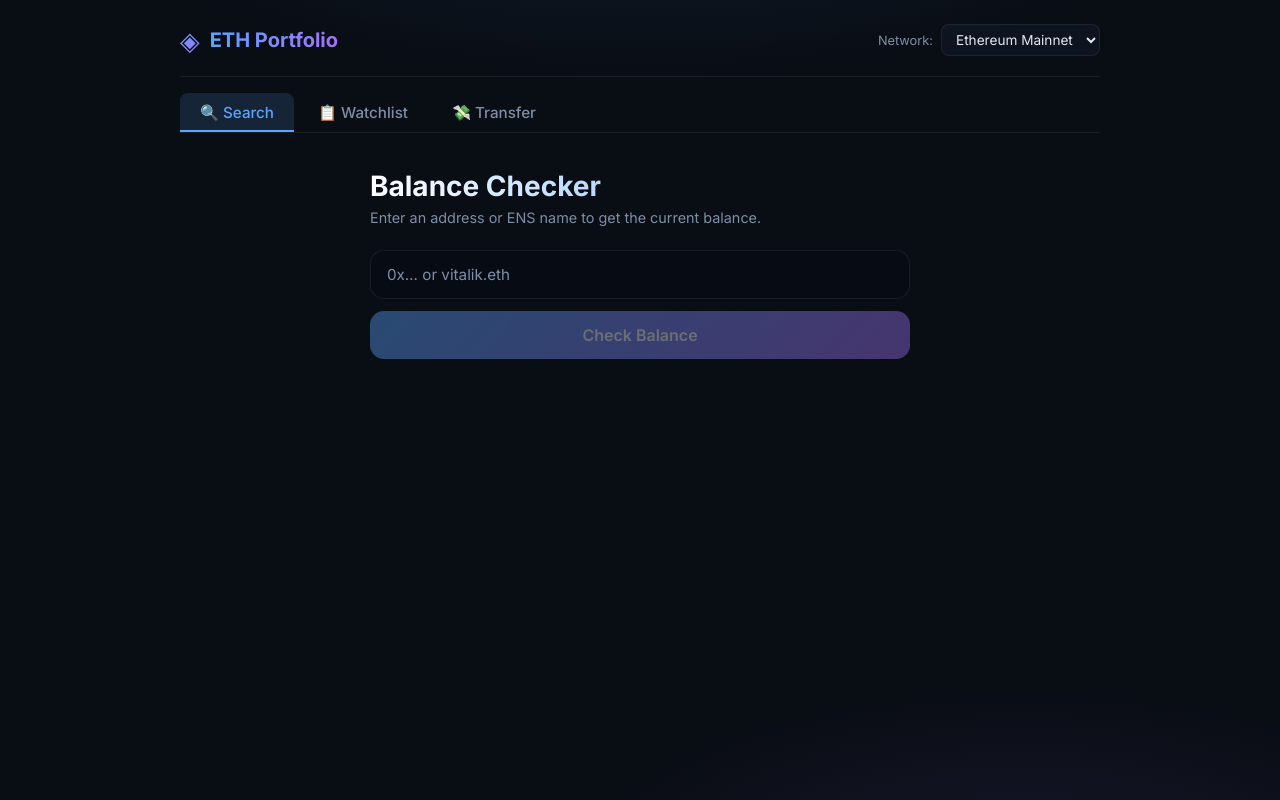
Test: App — Search Tab › shows error on invalid address
The image size is (1280, 800).
Type "invalid_address" into the field with test id "address-input". click: (640, 274)
box: [370,250,910,299]
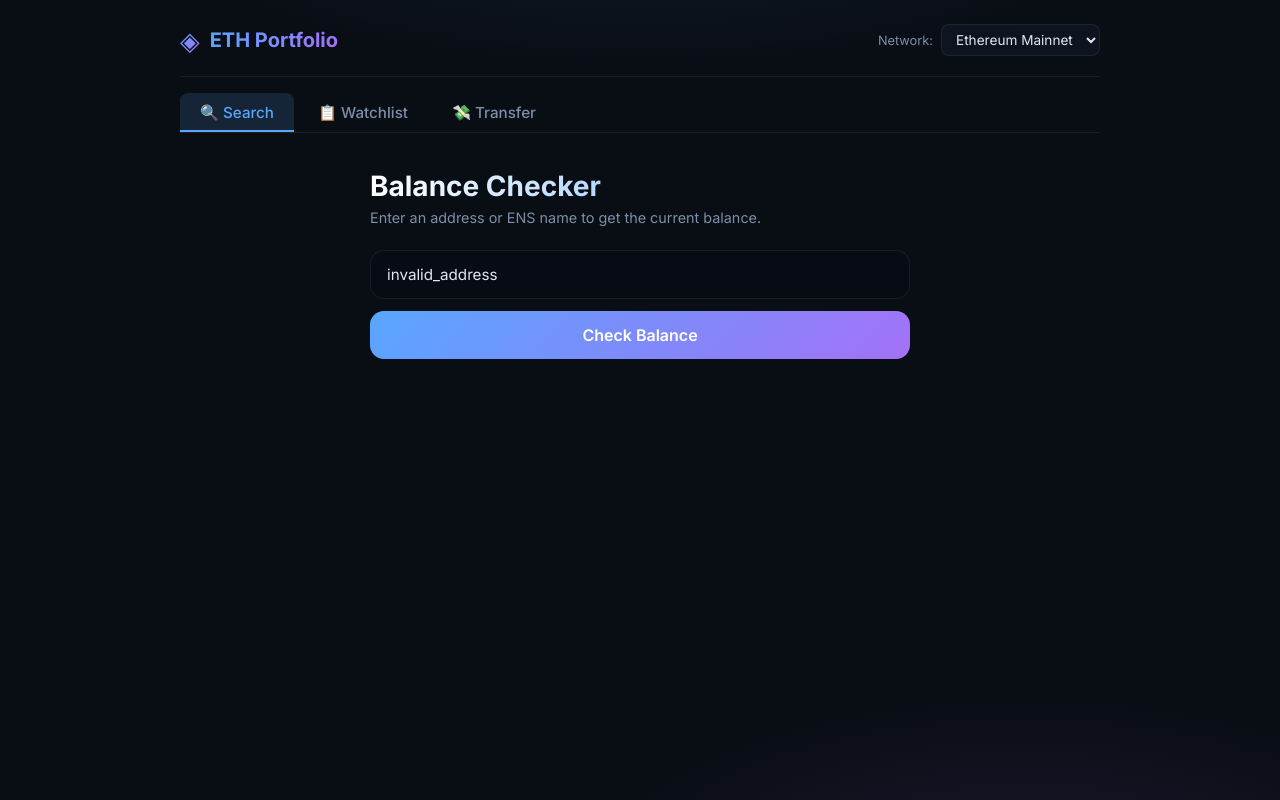
Click the button "Check Balance". click: (640, 335)
box: [370,311,910,359]
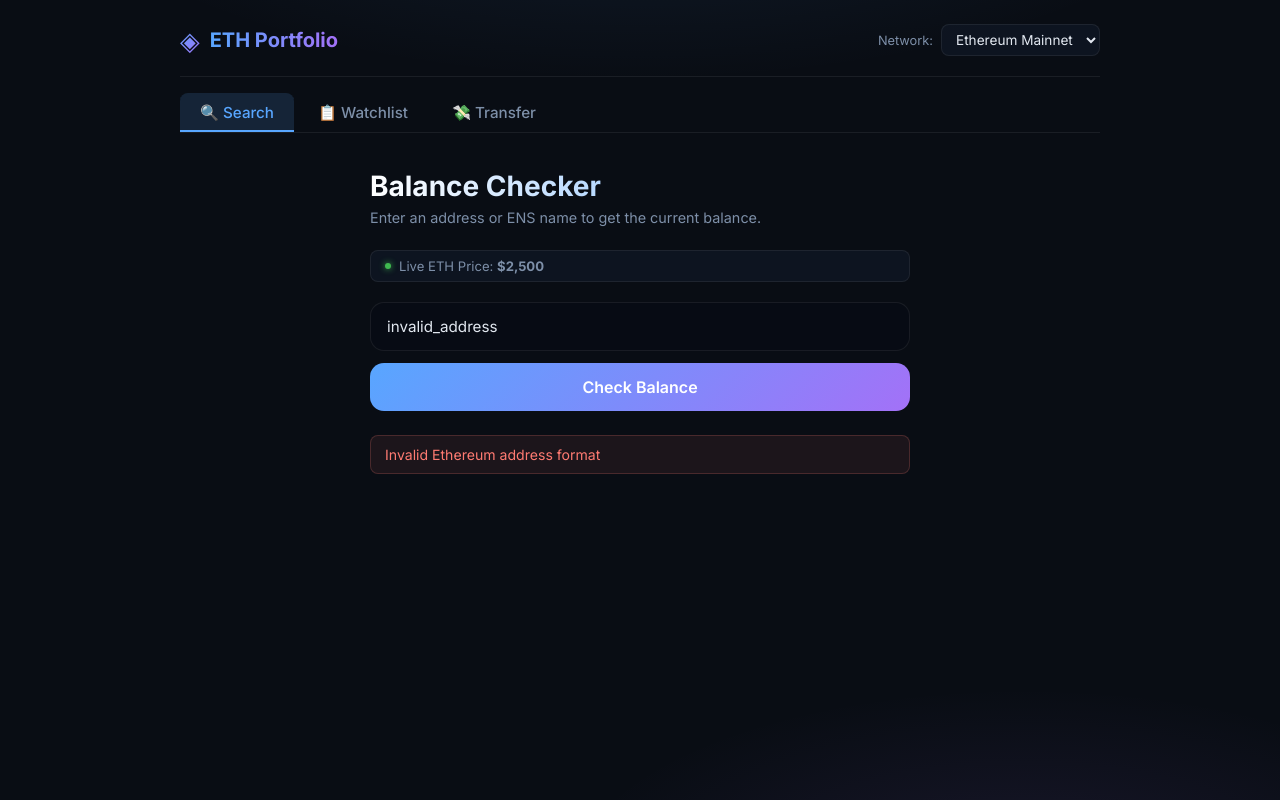
Expected: the text with test id "error-message" reads "Invalid Ethereum address format", [385,446,600,463]
